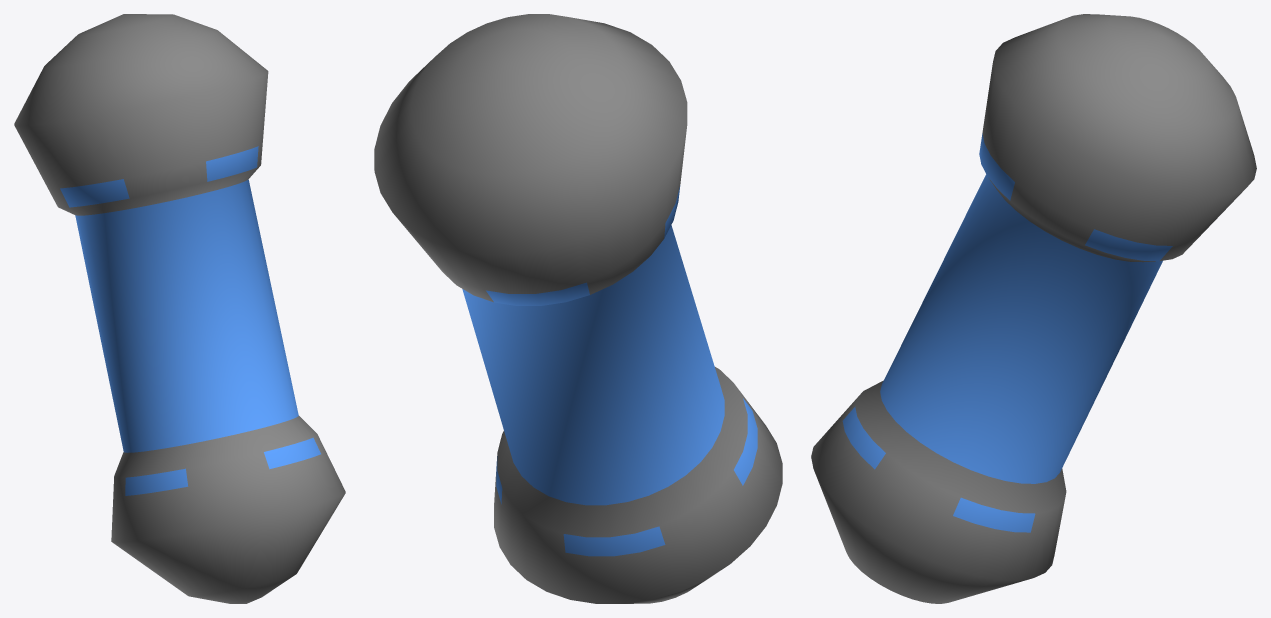
Rendered from health-pack.fbx.
3 views of the same model, side by side, from view 1: azimuth 30°, elevation 25°; view 2: azimuth 150°, elevation 25°; view 3: azimuth 270°, elevation 25° (orthographic). The views are drawn at different scales.
Parts seen in each view (by area): view 1: Cylinder; view 2: Cylinder; view 3: Cylinder.
Boxes of the visible parts, box(x1,y1,x2,y2) form: Cylinder: box(14, 14, 345, 603); Cylinder: box(374, 14, 782, 603); Cylinder: box(811, 14, 1256, 603).
Size of the model in its own units: 101 by 219 by 157.
